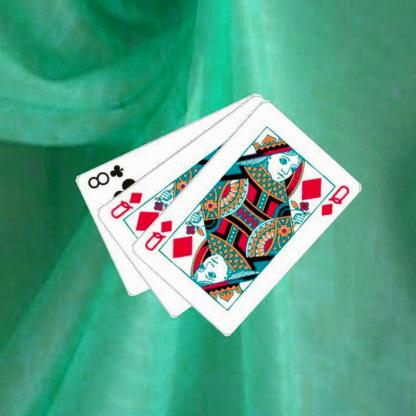8C: (86, 162, 126, 190)
QD: (143, 217, 175, 253), (320, 182, 352, 218), (109, 190, 145, 221)
